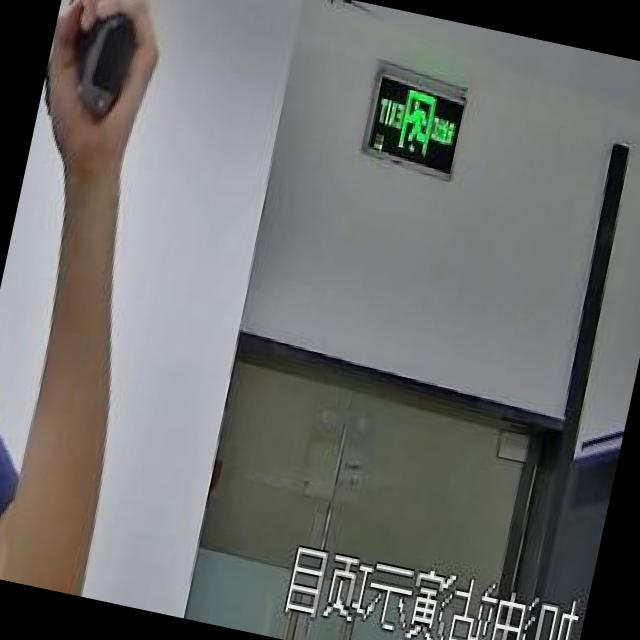Guns: (34, 0, 183, 147)
